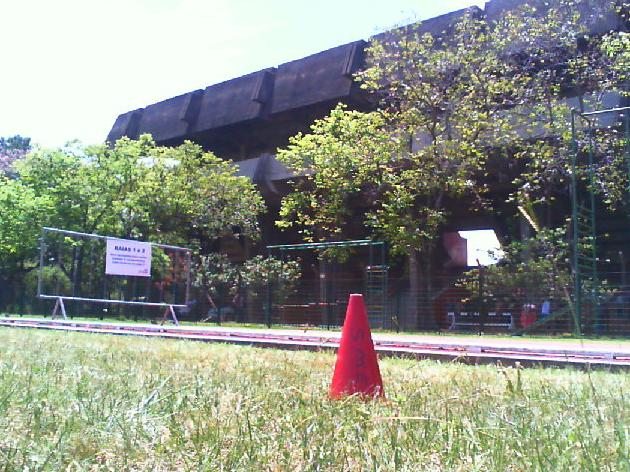0 cone: (320, 293, 391, 406)
